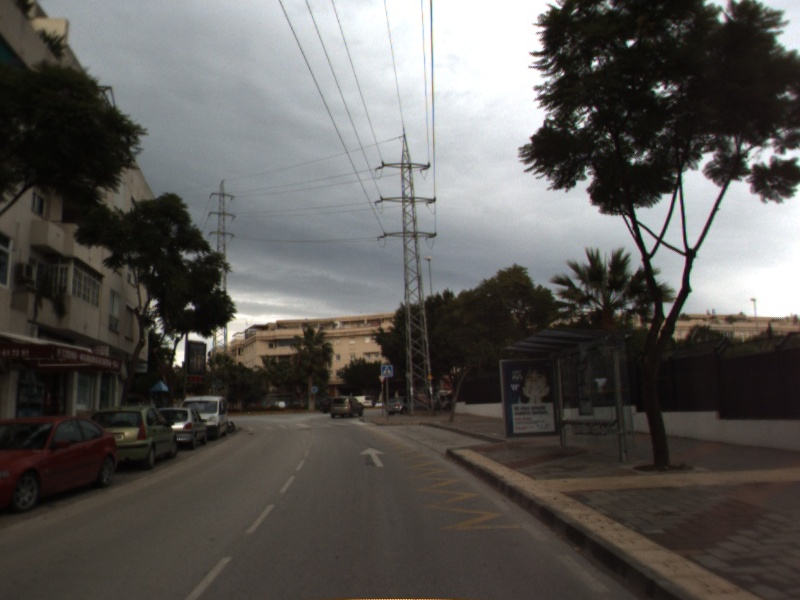STRAIGHT: (358, 445, 387, 469)
